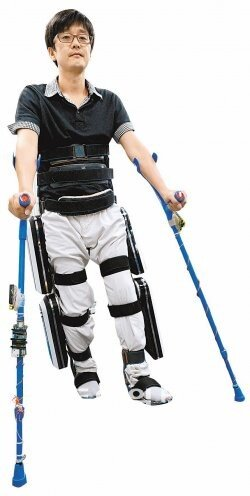crutches: (6, 8, 245, 488)
